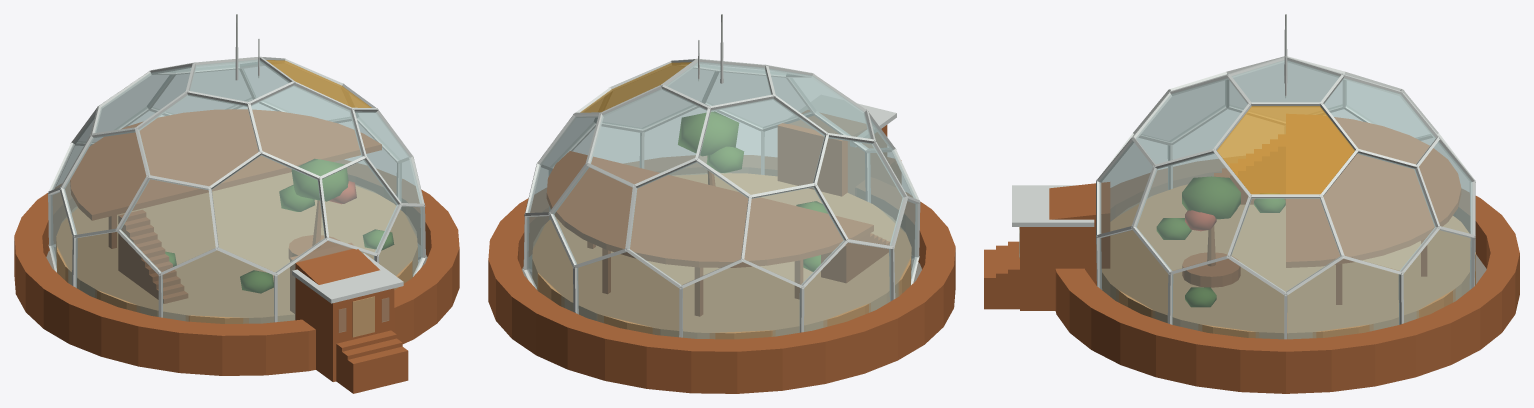
File: dome.meshopt.glb
3 renders of one model, left to right at view 1: azimuth 30°, elevation 25°; view 2: azimuth 150°, elevation 25°; view 3: azimuth 270°, elevation 25°, orthographic. The views are drawn at different scales.
Visible parts, largest first — view 1: dome; view 2: dome; view 3: dome.
Part boxes in pixels (x1,y1,x2,y2): dome: [14, 14, 459, 393]; dome: [488, 14, 955, 393]; dome: [984, 14, 1519, 393].
Size of the model in its own units: 22.71 by 15.03 by 26.
